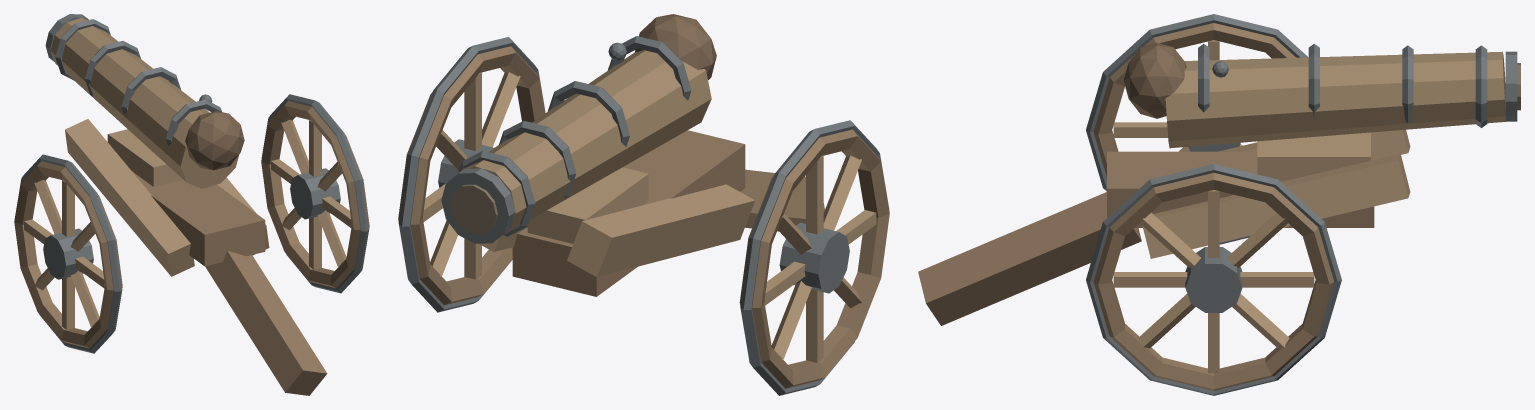
The model's file is jacobite_leather_cannon.glb.
3 views of the same model, side by side, from view 1: azimuth 30°, elevation 25°; view 2: azimuth 150°, elevation 25°; view 3: azimuth 270°, elevation 25° (orthographic). The views are drawn at different scales.
Parts seen in each view (by area): view 1: wood, wood_lt, iron, leather_lt, leather; view 2: wood, wood_lt, iron, leather_lt, leather, powder; view 3: wood, leather_lt, wood_lt, iron, leather.
Boxes of the visible parts, left/top/right/bottom form: wood: left=14, top=101, right=369, bottom=395; wood_lt: left=24, top=119, right=351, bottom=329; iron: left=14, top=14, right=369, bottom=353; leather_lt: left=50, top=17, right=239, bottom=188; leather: left=185, top=111, right=244, bottom=170; wood: left=398, top=46, right=889, bottom=388; wood_lt: left=423, top=72, right=876, bottom=362; iron: left=398, top=36, right=889, bottom=395; leather_lt: left=456, top=50, right=711, bottom=233; leather: left=635, top=14, right=716, bottom=79; powder: left=450, top=184, right=497, bottom=233; wood: left=918, top=23, right=1374, bottom=390; leather_lt: left=1165, top=51, right=1505, bottom=148; wood_lt: left=1113, top=40, right=1410, bottom=373; iron: left=1086, top=14, right=1517, bottom=395; leather: left=1123, top=42, right=1186, bottom=118.
Bounding box in the file's own units: 1.18 × 0.9092 × 1.8.
